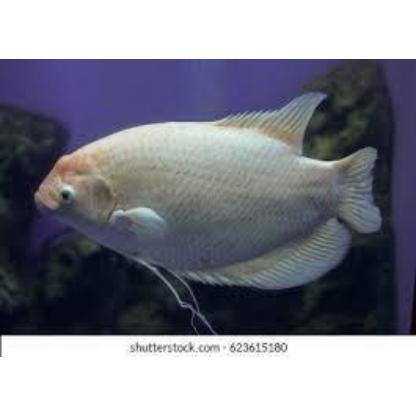gurame: (35, 93, 380, 286)
